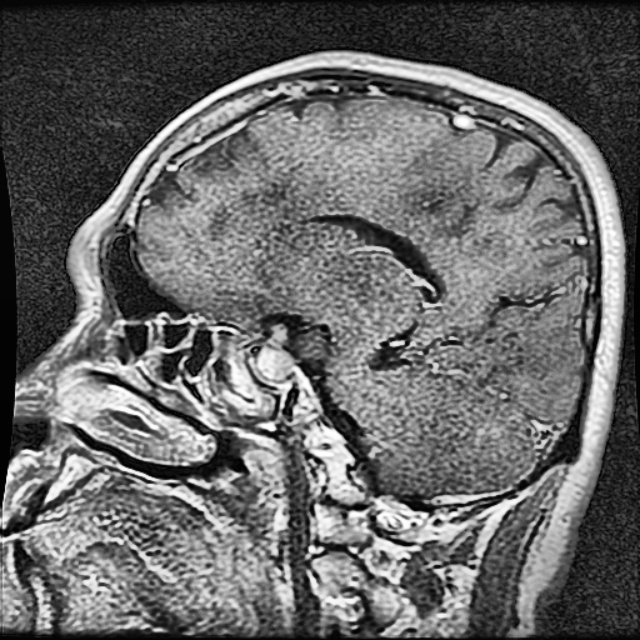Pituitary: (259, 323, 288, 374)
